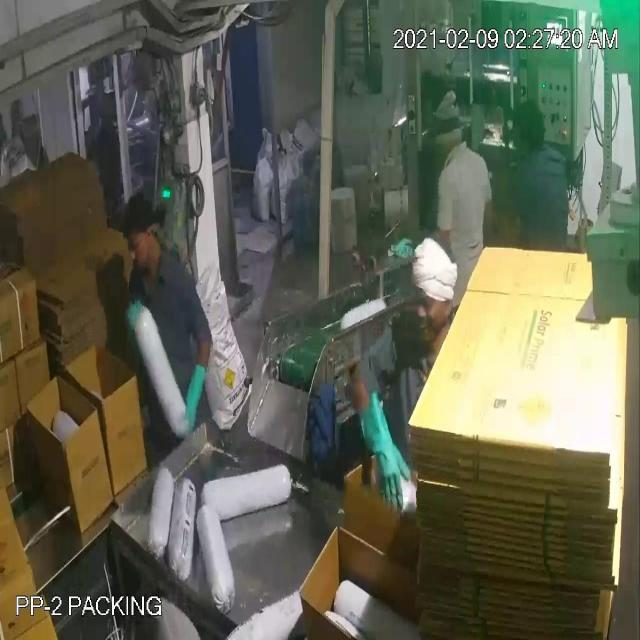Gloves: (34, 68, 384, 452)
